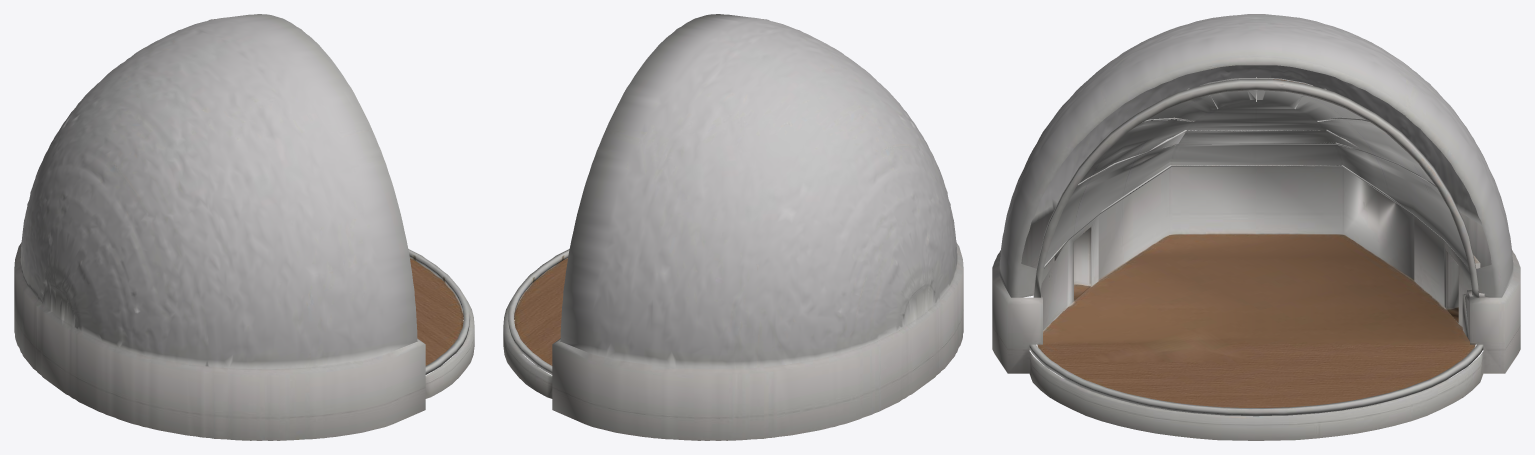
Rendered from bandshell.glb.
The picture shows the model from 3 angles, left to right: view 1: azimuth 30°, elevation 25°; view 2: azimuth 150°, elevation 25°; view 3: azimuth 270°, elevation 25°; orthographic projection. The views are drawn at different scales.
Visible parts, largest first — view 1: tripo_node_eff3f64f-8f80-490e-891b-257e483a36f1; view 2: tripo_node_eff3f64f-8f80-490e-891b-257e483a36f1; view 3: tripo_node_eff3f64f-8f80-490e-891b-257e483a36f1.
Boxes of the visible parts, x1,y1,x2,y2 form: tripo_node_eff3f64f-8f80-490e-891b-257e483a36f1: (14,14,474,440); tripo_node_eff3f64f-8f80-490e-891b-257e483a36f1: (503,14,963,440); tripo_node_eff3f64f-8f80-490e-891b-257e483a36f1: (992,14,1520,440).
Bounding box in the file's own units: 0.8847 × 0.6582 × 0.998.
1 material, 1 textured.
